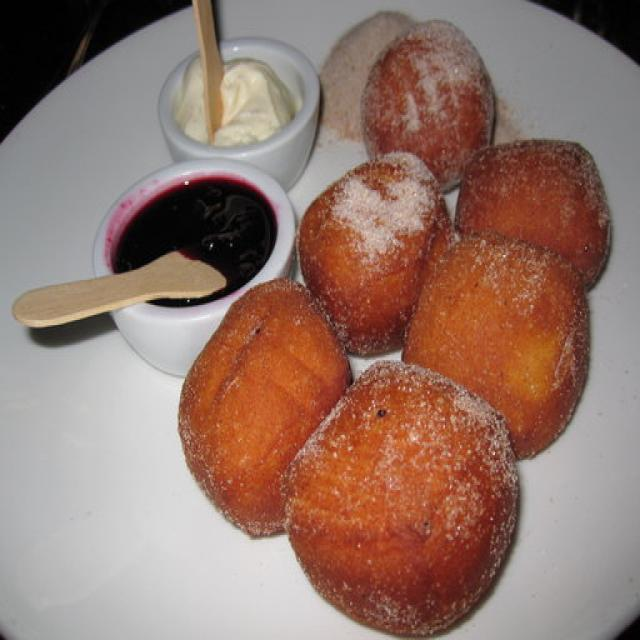Donuts: (186, 30, 620, 640)
